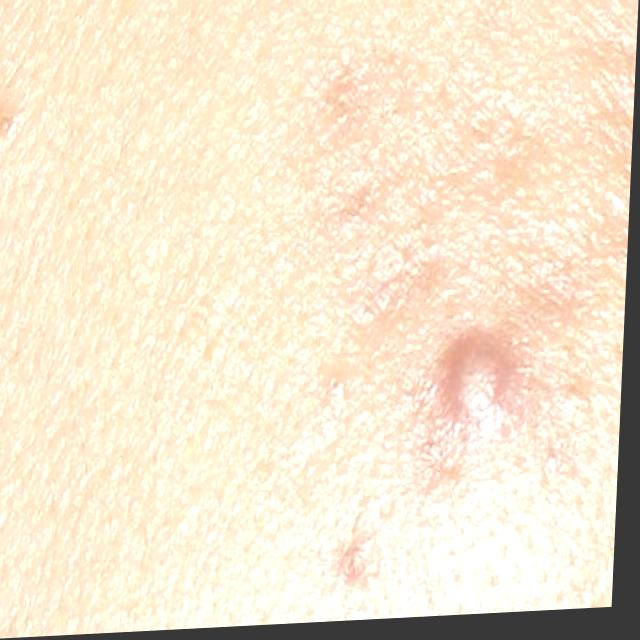blackheads: (432, 327, 538, 445)
